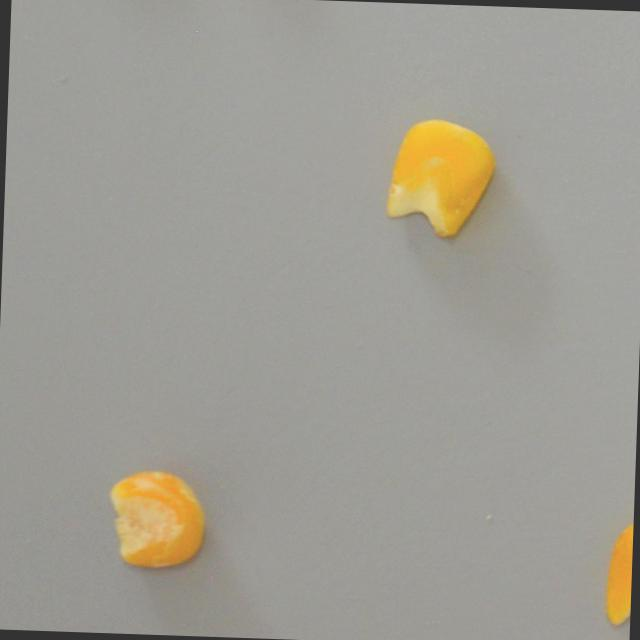no_canjicado: (385, 117, 497, 238), (605, 519, 633, 640)
pelicula: (107, 466, 207, 570)
